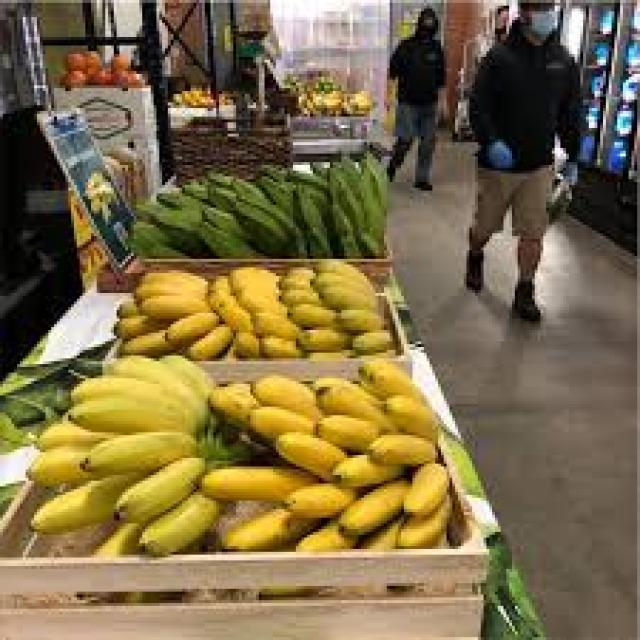Banana: (28, 357, 450, 554), (126, 156, 390, 259), (115, 264, 393, 357)
